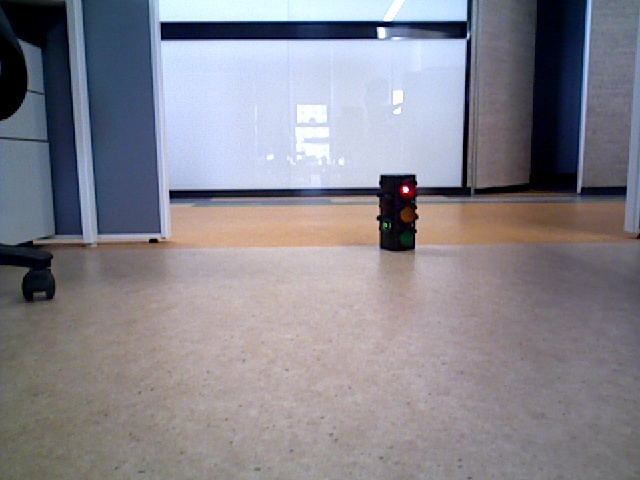red: (378, 177, 414, 248)
